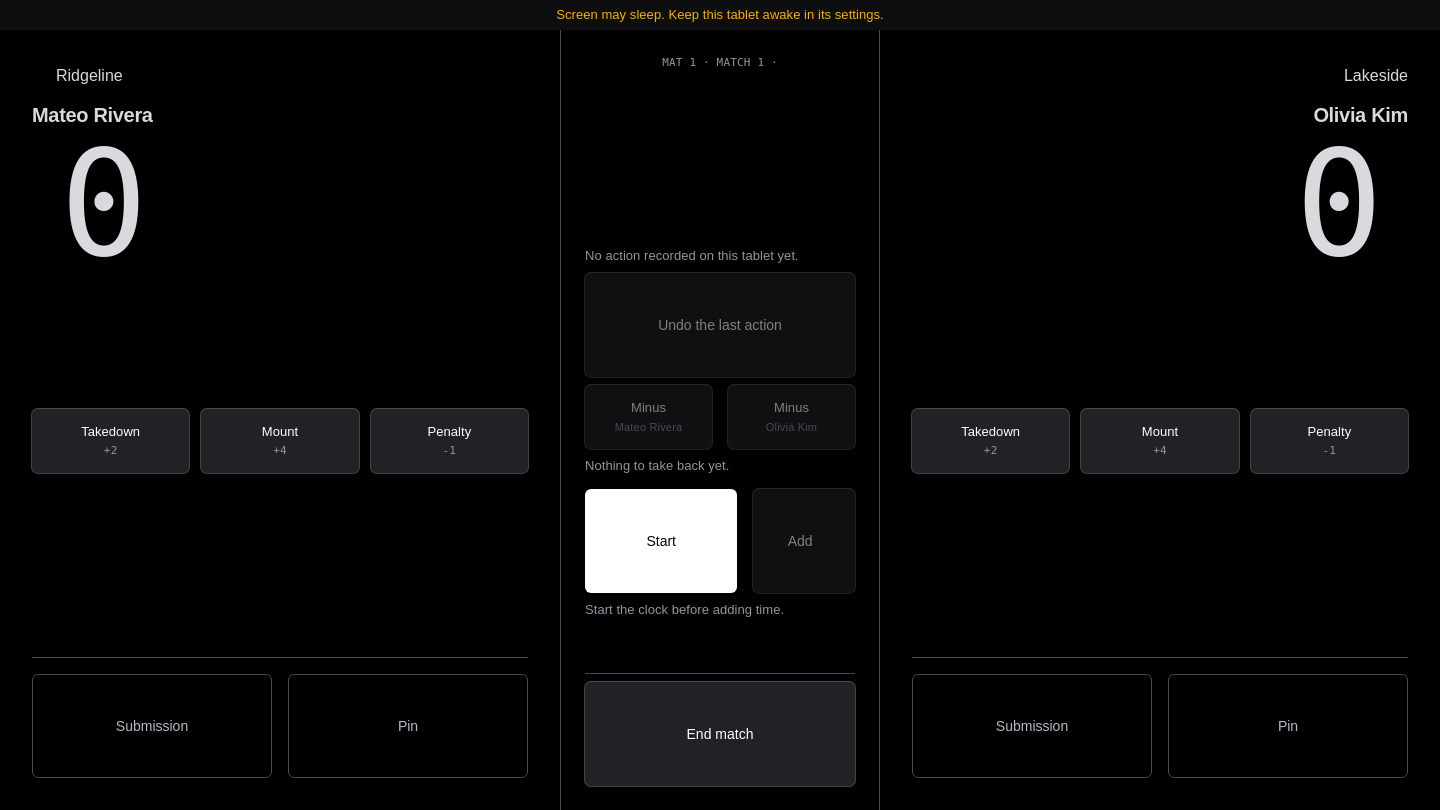
Test: ScorerPage › does not steal the screen with a sheet when the clock runs out under a tie pick
Expected: the element "Mateo Rivera" is shown, top-left (0, 30), bottom-right (560, 809)
Step 1. Click the button "End match" → (720, 734), box top-left (585, 682), bottom-right (855, 786)
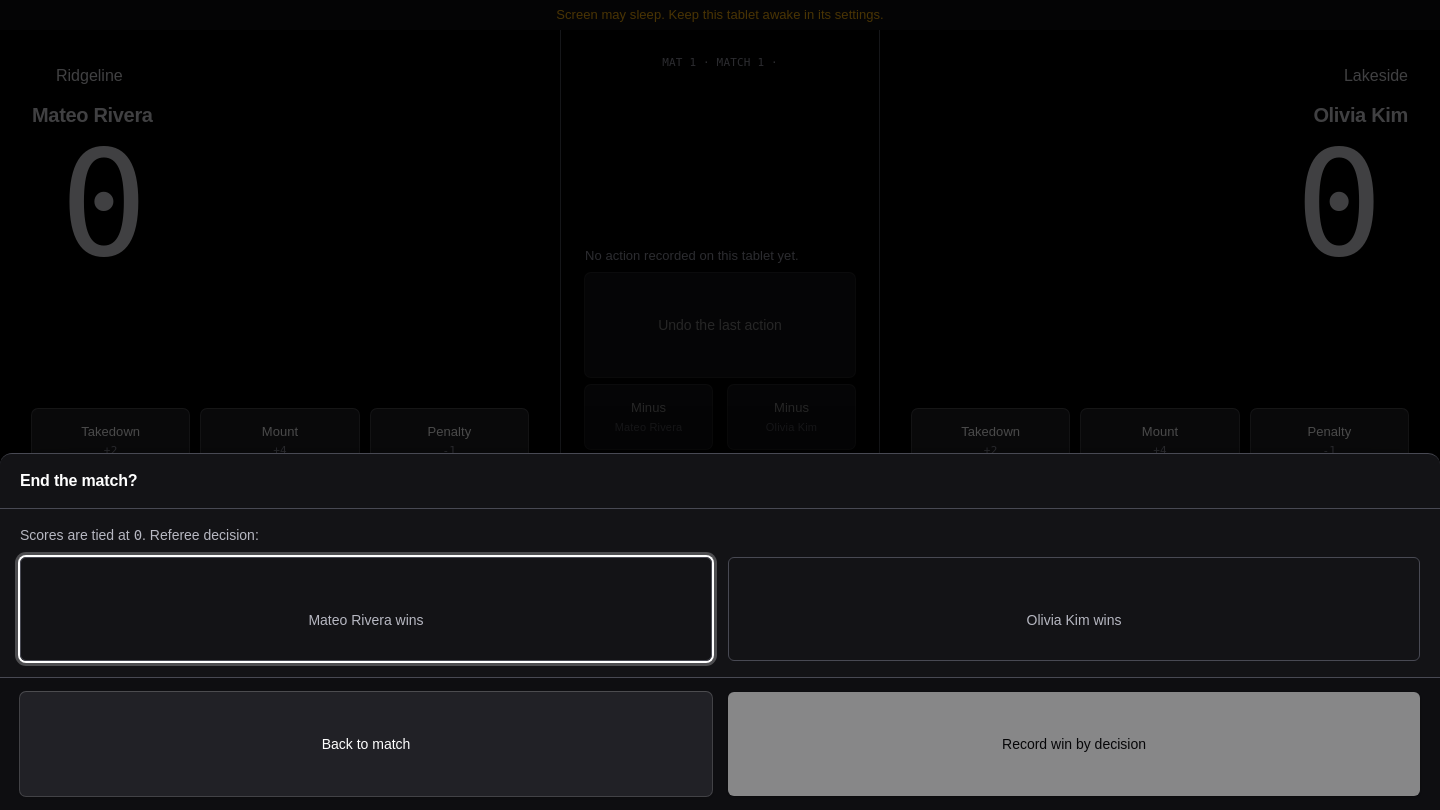
Now the dialog shows "End the match?", box top-left (20, 472), bottom-right (137, 489)
Step 2. Click the button "Mateo Rivera wins" → (366, 609), box top-left (20, 557), bottom-right (712, 661)
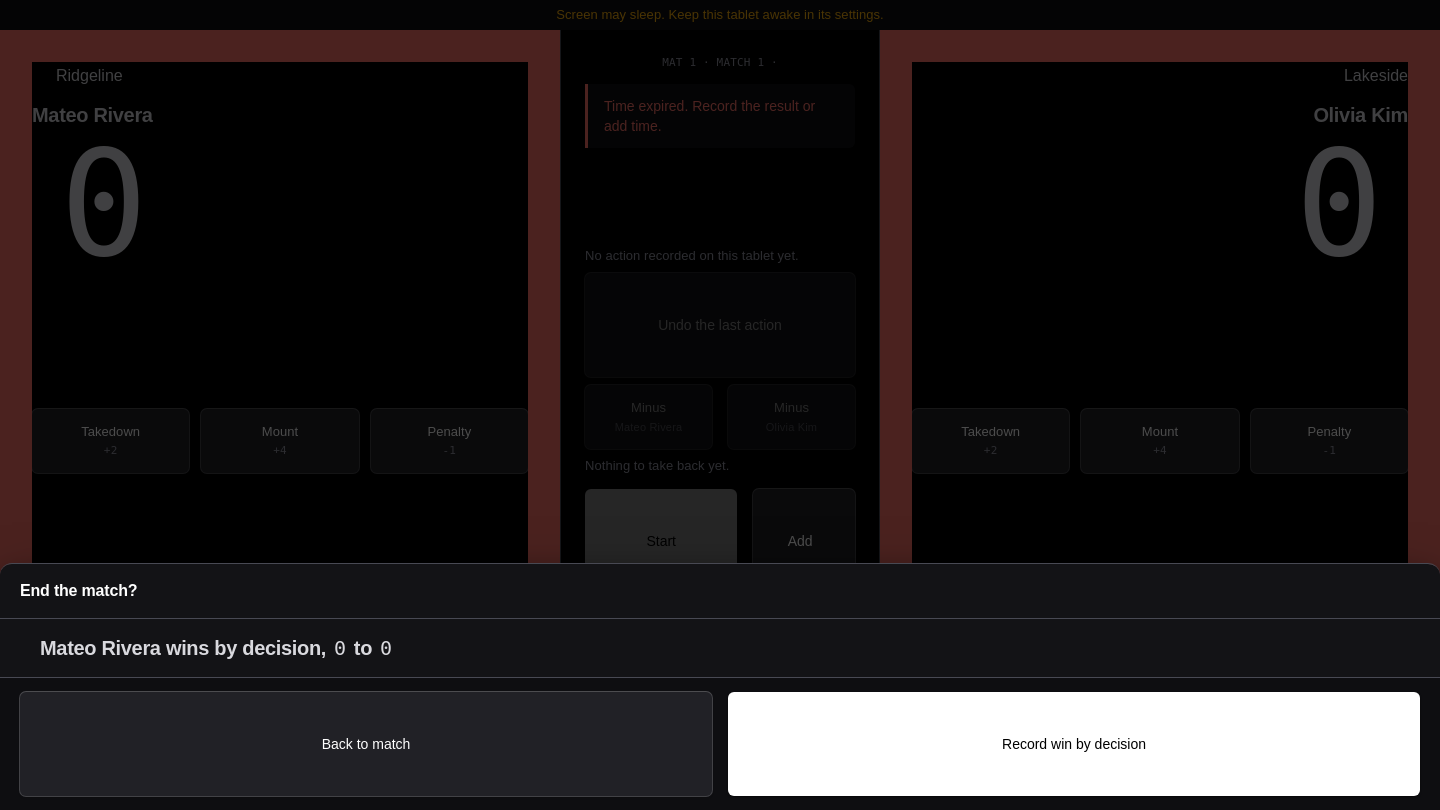
Now the dialog shows "End the match?", box top-left (20, 582), bottom-right (137, 599)
Now the text "Mateo Rivera wins by decision," is shown, box top-left (40, 635), bottom-right (326, 661)
Now the button "Record win by decision" is enabled, box top-left (728, 692), bottom-right (1420, 796)
